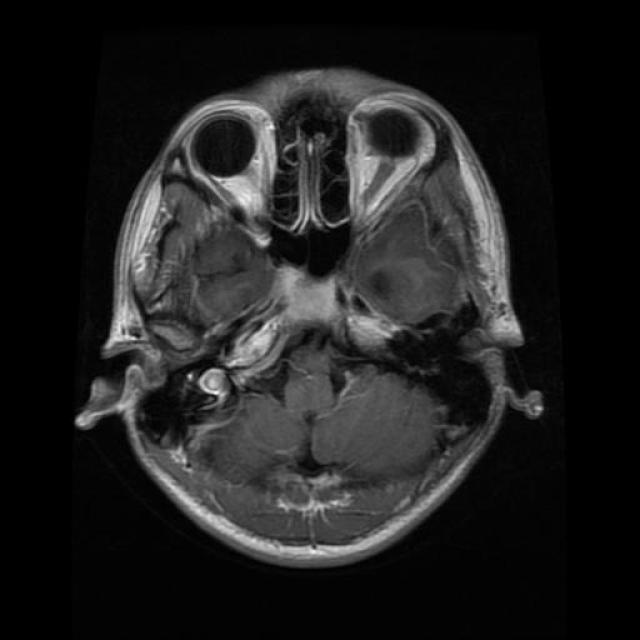glioma: (211, 108, 345, 244)
